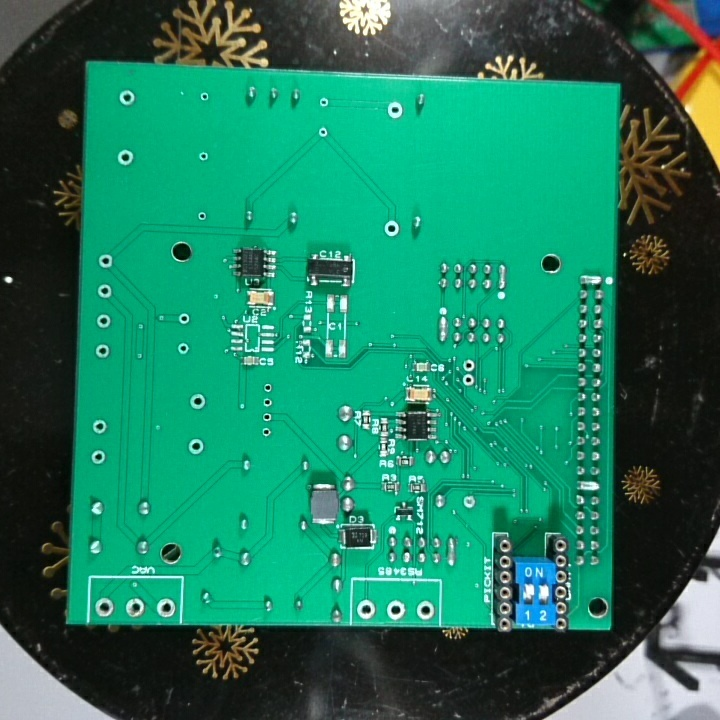F: (153, 595, 179, 620), (115, 86, 141, 110), (113, 147, 138, 171), (383, 98, 407, 123), (93, 594, 116, 619), (356, 596, 378, 622), (384, 596, 408, 619), (413, 598, 436, 620), (88, 448, 110, 470), (95, 280, 116, 303), (381, 218, 401, 241), (187, 392, 208, 413), (185, 436, 206, 457), (124, 596, 144, 618), (94, 252, 116, 272), (89, 418, 109, 439), (93, 340, 112, 360), (176, 309, 194, 329), (95, 310, 113, 330), (175, 339, 191, 358), (196, 146, 211, 166), (461, 372, 477, 389), (461, 494, 477, 511), (316, 93, 332, 110), (259, 423, 274, 440), (316, 123, 330, 141), (196, 89, 211, 105), (461, 357, 475, 374), (261, 379, 275, 395), (260, 409, 274, 423), (196, 209, 209, 224), (261, 397, 274, 410)
P: (444, 534, 460, 568), (576, 478, 601, 494), (496, 261, 508, 292), (579, 273, 604, 287), (438, 314, 449, 343)
